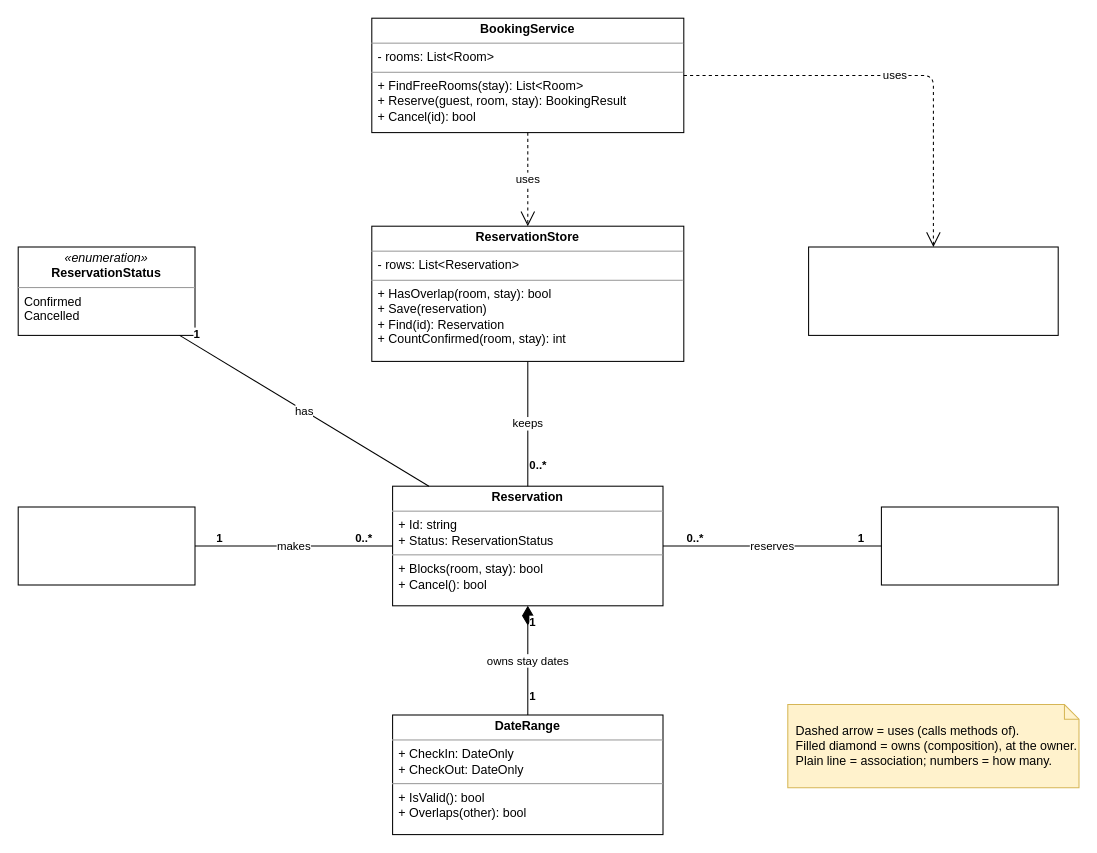
Some shapes in this 1097 by 853 pixel diagram are drawn without their labels. Each missing label, with the centre of its shape:
"EmailSender + Sent: int + SendConfirmation(reservation)" goes at point (933, 290).
"Guest + Name: string + Email: string" goes at point (106, 545).
"Room + Number: string + Type: string" goes at point (969, 545).
